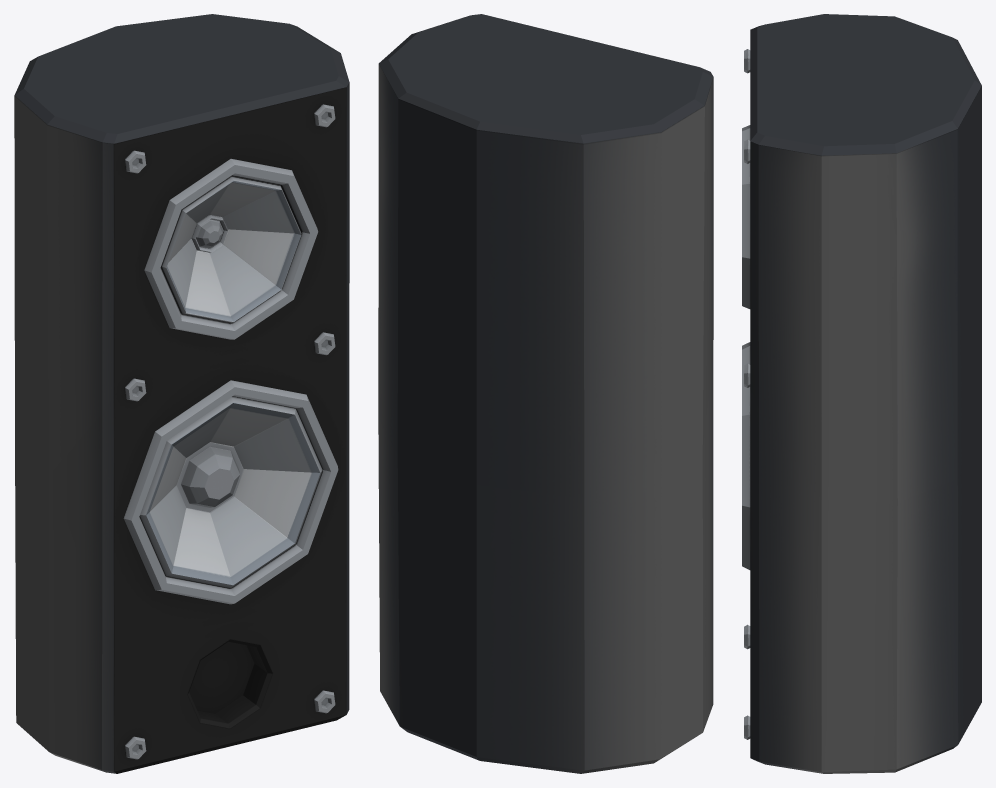
The model's file is Wall desk speakers.glb.
3 views of the same model, side by side, from view 1: azimuth 30°, elevation 25°; view 2: azimuth 150°, elevation 25°; view 3: azimuth 270°, elevation 25° (orthographic).
Visible parts, largest first — view 1: WallDeskSpeakers_mesh; view 2: WallDeskSpeakers_mesh; view 3: WallDeskSpeakers_mesh.
Part boxes in pixels (x1,y1,x2,y2): WallDeskSpeakers_mesh: [14, 14, 349, 773]; WallDeskSpeakers_mesh: [378, 14, 713, 773]; WallDeskSpeakers_mesh: [742, 14, 981, 773].
Size of the model in its own units: 7.5 by 15.61 by 5.4.
Materials: 1 (1 with a texture image).
